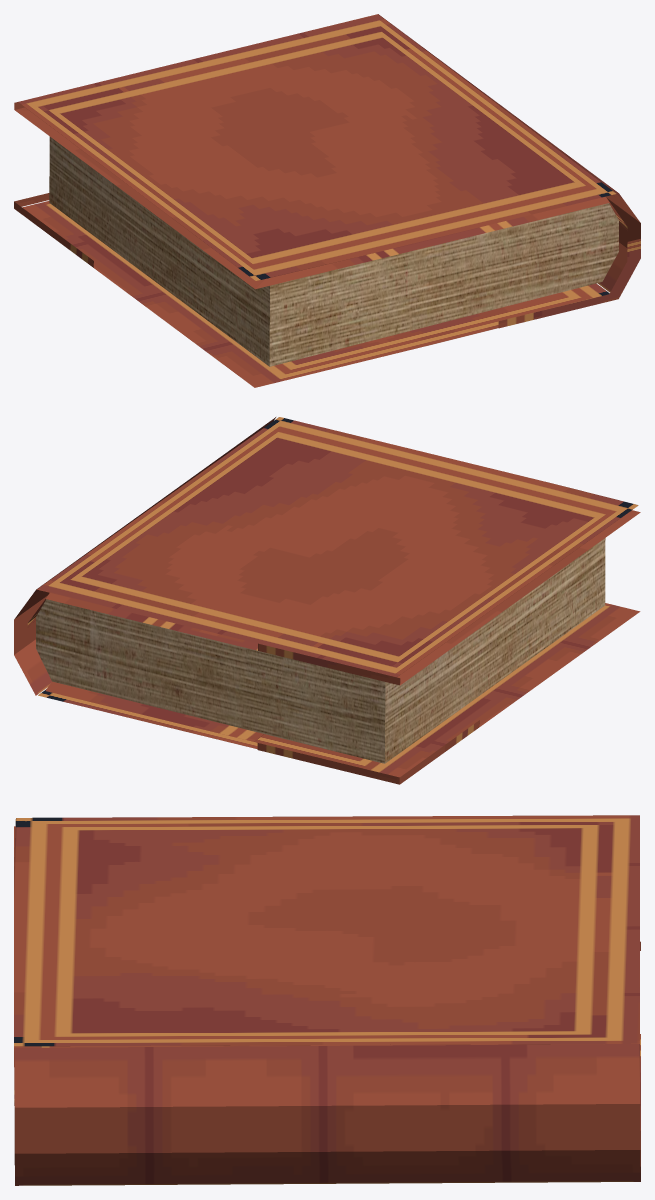
File: Livro malco2.fbx
The picture shows the model from 3 angles, top to bottom: view 1: azimuth 30°, elevation 25°; view 2: azimuth 150°, elevation 25°; view 3: azimuth 270°, elevation 25°; orthographic projection. The views are drawn at different scales.
Parts seen in each view (by area): view 1: Cube.001, Cube.002; view 2: Cube.001, Cube.002; view 3: Cube.001.
Part boxes in pixels (bbox=[...]): Cube.001: bbox=[14, 14, 640, 387]; Cube.002: bbox=[49, 136, 618, 366]; Cube.001: bbox=[14, 417, 640, 784]; Cube.002: bbox=[36, 538, 605, 763]; Cube.001: bbox=[14, 815, 640, 1185].
Bounding box in the file's own units: 761 × 206 × 824.
2 materials, 2 textured.
